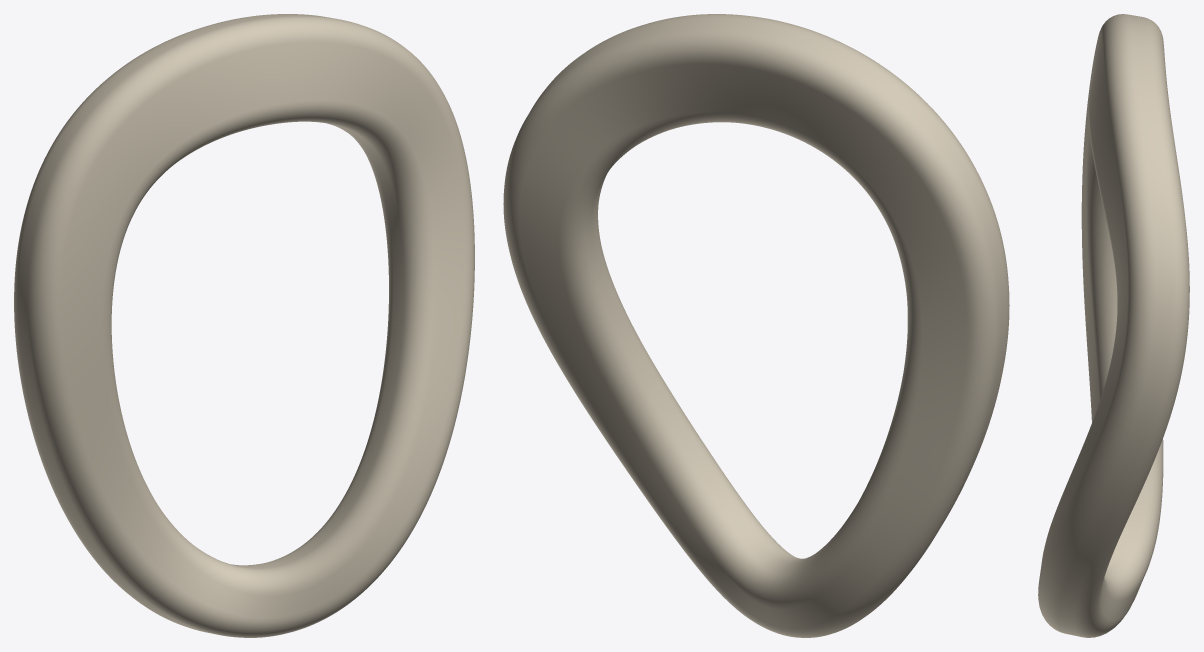
The model's file is orison.glb.
3 renders of one model, left to right at view 1: azimuth 30°, elevation 25°; view 2: azimuth 150°, elevation 25°; view 3: azimuth 270°, elevation 25°, orthographic. The views are drawn at different scales.
Parts seen in each view (by area): view 1: ORISON | continuous closed sweep; view 2: ORISON | continuous closed sweep; view 3: ORISON | continuous closed sweep.
Boxes of the visible parts, <box> form: ORISON | continuous closed sweep: <box>14,14,474,637</box>; ORISON | continuous closed sweep: <box>503,14,1009,637</box>; ORISON | continuous closed sweep: <box>1038,14,1189,637</box>.
Bounding box in the file's own units: 0.311 × 0.3863 × 0.0914.
